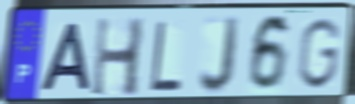6: (244, 13, 294, 97)
A: (36, 21, 93, 94)
G: (294, 15, 344, 92)
H: (89, 15, 148, 100)
J: (197, 14, 243, 97)
L: (148, 18, 183, 93)
